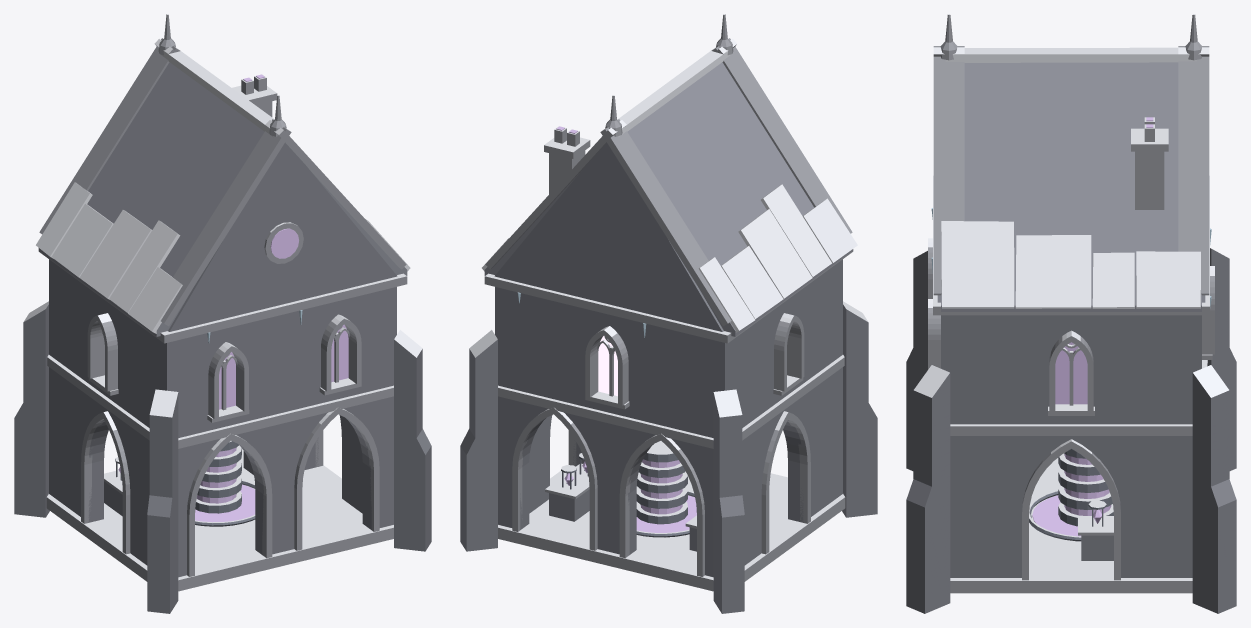
File: AR_Oficina_Suspensa.fbx
The picture shows the model from 3 angles, left to right: view 1: azimuth 30°, elevation 25°; view 2: azimuth 150°, elevation 25°; view 3: azimuth 270°, elevation 25°; orthographic projection. The views are drawn at different scales.
Parts seen in each view (by area): view 1: AR_Oficina_Suspensa; view 2: AR_Oficina_Suspensa; view 3: AR_Oficina_Suspensa.
Boxes of the visible parts, x1,y1,x2,y2 form: AR_Oficina_Suspensa: [14, 14, 431, 613]; AR_Oficina_Suspensa: [460, 14, 877, 613]; AR_Oficina_Suspensa: [906, 14, 1236, 613].
Bounding box in the file's own units: 11.12 × 17.68 × 10.12.
